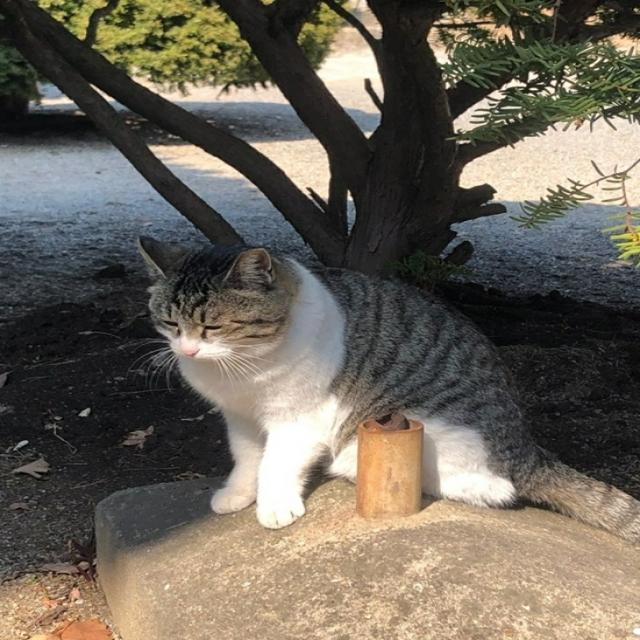cat: (114, 218, 640, 570)
